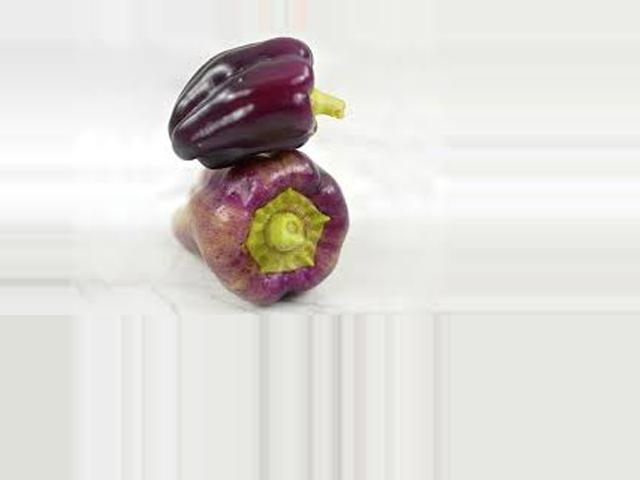bell_pepper: (140, 146, 382, 309)
